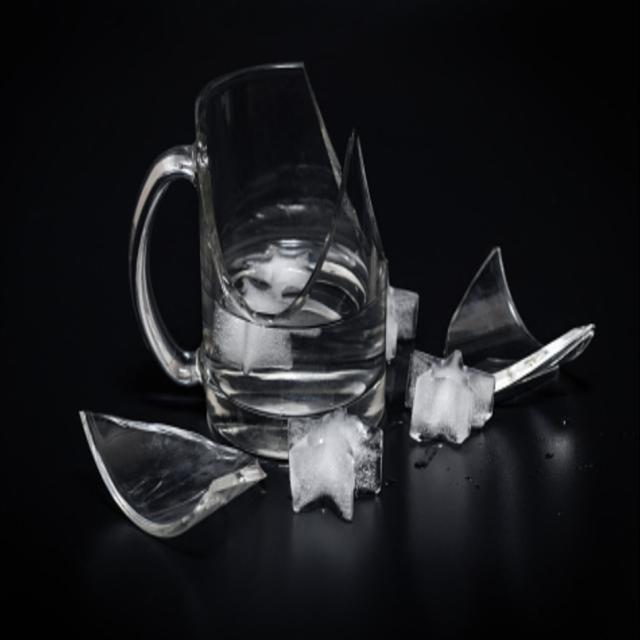PecahanKaca: (79, 56, 596, 536), (127, 58, 400, 461)
